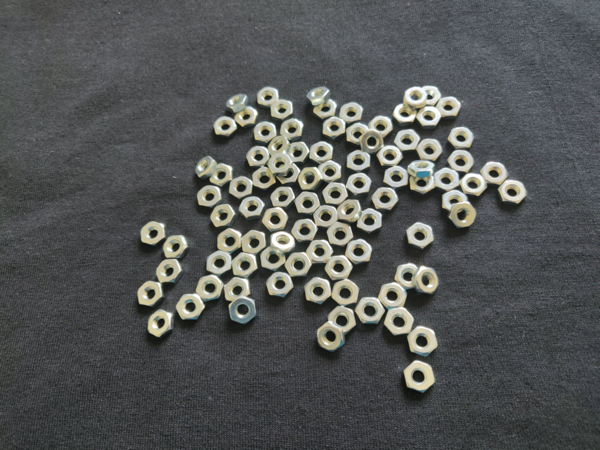nut: (404, 360, 436, 394), (355, 297, 386, 330), (409, 326, 439, 358), (449, 199, 478, 231), (386, 308, 415, 337), (319, 322, 345, 354), (304, 278, 332, 307), (196, 275, 226, 302), (214, 227, 244, 254), (432, 168, 462, 195), (229, 297, 257, 325), (136, 280, 164, 308), (347, 238, 374, 267), (296, 163, 323, 192), (408, 221, 434, 251), (178, 295, 205, 323), (230, 253, 258, 280), (329, 306, 355, 335), (379, 284, 408, 310), (266, 273, 295, 299), (447, 149, 476, 175), (344, 122, 373, 148), (413, 267, 438, 297), (147, 309, 172, 339), (242, 229, 269, 256), (139, 220, 165, 248), (323, 180, 349, 208), (239, 195, 265, 223), (346, 172, 375, 197), (447, 126, 477, 150), (325, 256, 355, 280), (233, 103, 259, 130), (157, 259, 185, 284), (357, 208, 385, 233), (261, 207, 289, 232), (345, 149, 373, 174), (308, 140, 336, 165), (291, 219, 320, 243), (268, 231, 297, 255), (224, 278, 250, 304), (336, 197, 362, 223), (358, 130, 384, 156), (481, 161, 508, 186), (333, 281, 360, 306), (434, 168, 461, 193), (410, 170, 435, 197), (296, 191, 323, 216), (396, 262, 420, 290), (160, 235, 188, 259), (286, 252, 310, 280), (317, 160, 346, 183), (327, 221, 353, 246), (307, 240, 333, 265), (501, 180, 528, 204), (460, 173, 487, 197), (196, 185, 223, 209), (259, 247, 286, 271), (439, 190, 466, 214), (211, 114, 238, 138), (205, 252, 233, 275), (268, 185, 296, 208), (338, 101, 366, 124), (312, 97, 340, 120), (313, 204, 338, 229), (417, 137, 442, 162), (395, 127, 421, 151), (370, 114, 396, 138), (209, 162, 235, 186), (278, 117, 305, 140), (377, 145, 405, 167), (438, 95, 462, 120), (345, 149, 370, 173), (373, 187, 399, 210), (383, 166, 409, 189), (418, 106, 444, 129), (286, 138, 309, 164), (246, 145, 272, 168), (405, 161, 436, 180), (320, 117, 348, 138), (267, 153, 292, 176), (277, 163, 302, 186), (403, 86, 429, 108), (227, 177, 253, 199), (417, 84, 442, 106), (393, 103, 418, 125), (307, 85, 332, 107), (268, 99, 294, 120), (251, 122, 277, 143), (224, 90, 248, 112), (194, 155, 216, 179), (257, 86, 281, 107)
